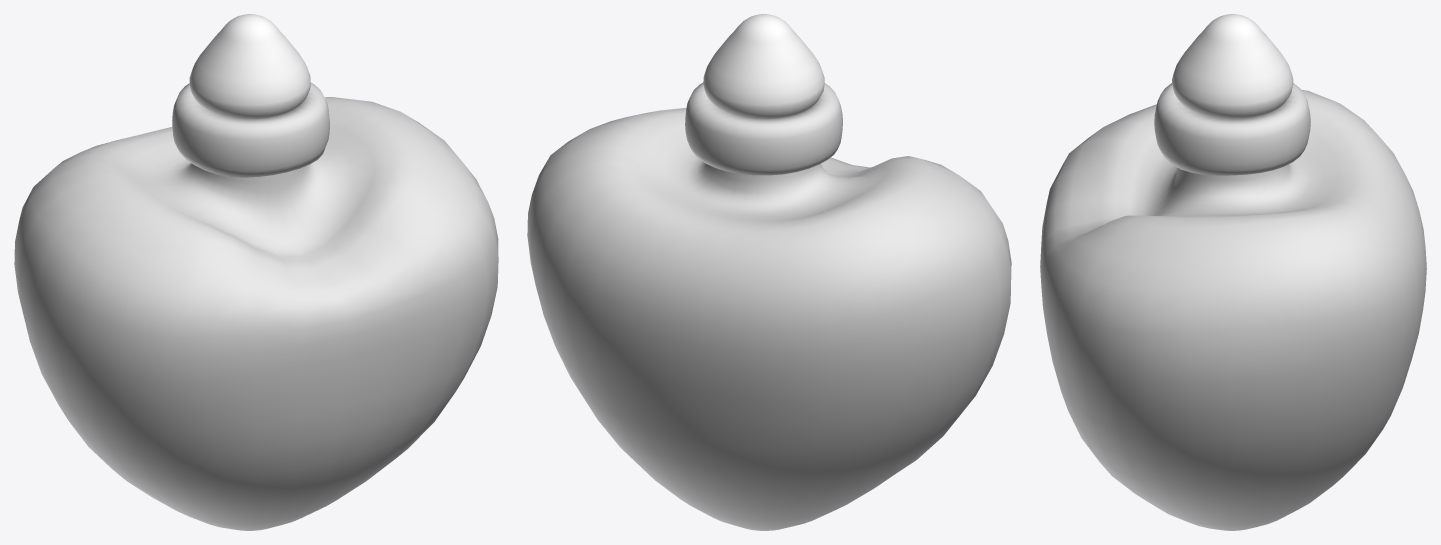
Rendered from Health-Potion 1.fbx.
3 views of the same model, side by side, from view 1: azimuth 30°, elevation 25°; view 2: azimuth 150°, elevation 25°; view 3: azimuth 270°, elevation 25° (orthographic).
Visible parts, largest first — view 1: Bottle-Health, Health-Cork; view 2: Bottle-Health, Health-Cork; view 3: Bottle-Health, Health-Cork.
Part boxes in pixels (x1=…): Bottle-Health: x1=14, y1=82, x2=498, y2=530; Health-Cork: x1=189, y1=14, x2=310, y2=119; Bottle-Health: x1=527, y1=82, x2=1011, y2=530; Health-Cork: x1=703, y1=14, x2=824, y2=119; Bottle-Health: x1=1040, y1=83, x2=1426, y2=530; Health-Cork: x1=1172, y1=14, x2=1293, y2=119.
Bounding box in the file's own units: 136 × 155 × 106.
